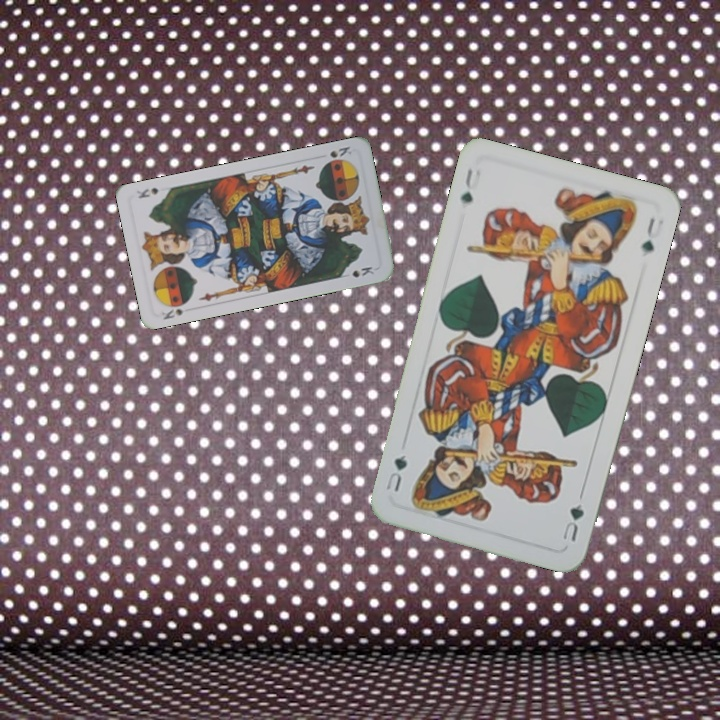GU: (558, 499, 587, 544), (456, 164, 476, 207)
SK: (158, 297, 195, 322), (326, 142, 354, 160)
